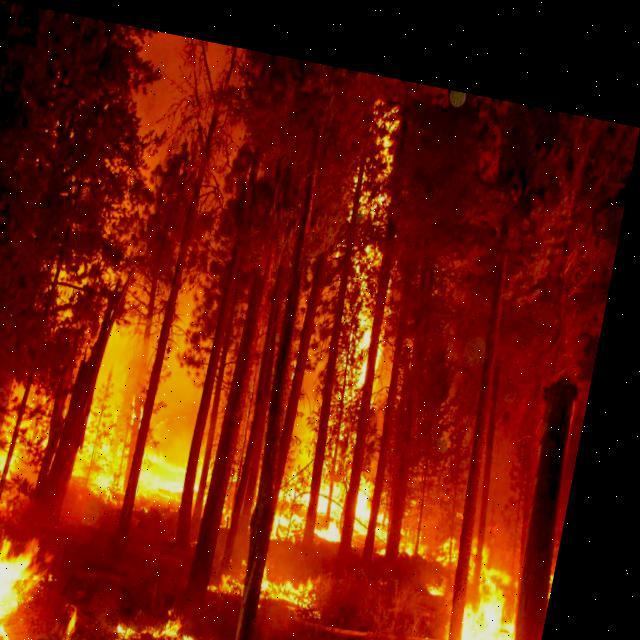Fire: (270, 90, 618, 639), (12, 250, 280, 510), (0, 510, 78, 639)
